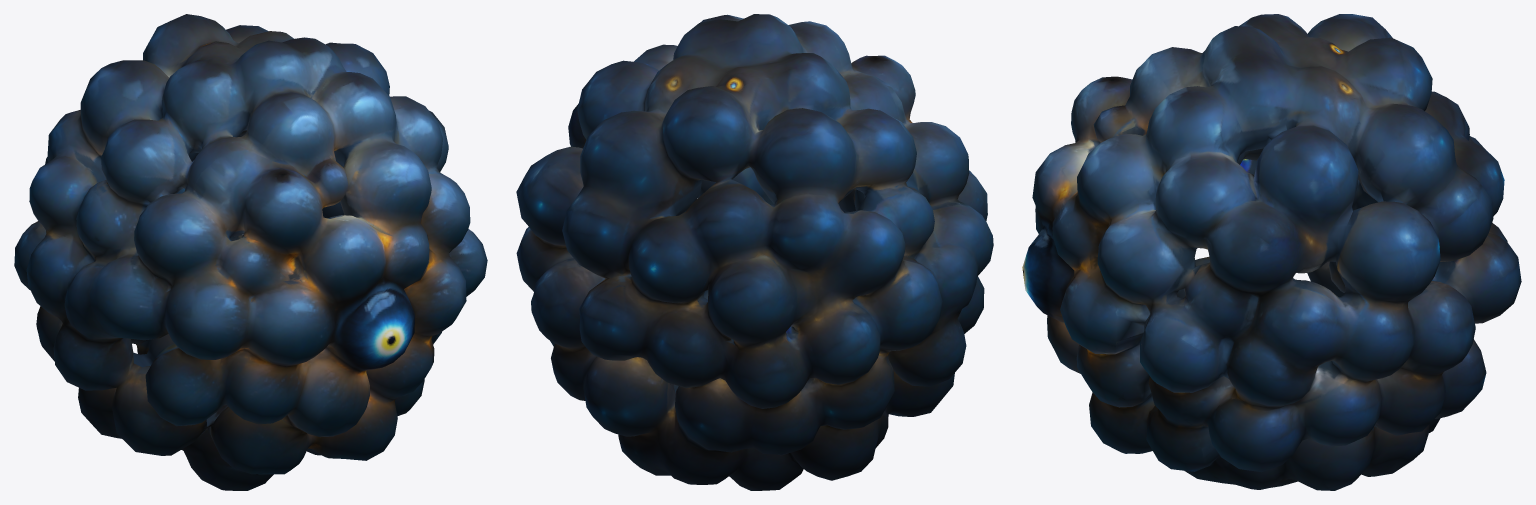
The model's file is Eyes.fbx.
3 renders of one model, left to right at view 1: azimuth 30°, elevation 25°; view 2: azimuth 150°, elevation 25°; view 3: azimuth 270°, elevation 25°, orthographic. The views are drawn at different scales.
Parts seen in each view (by area): view 1: Mesh1_Mesh1.004; view 2: Mesh1_Mesh1.004; view 3: Mesh1_Mesh1.004.
Boxes of the visible parts, <box> form: Mesh1_Mesh1.004: <box>14,14,487,490</box>; Mesh1_Mesh1.004: <box>516,14,993,490</box>; Mesh1_Mesh1.004: <box>1022,14,1521,490</box>.
Size of the model in its own units: 190 by 198 by 198.
1 material, 1 textured.
